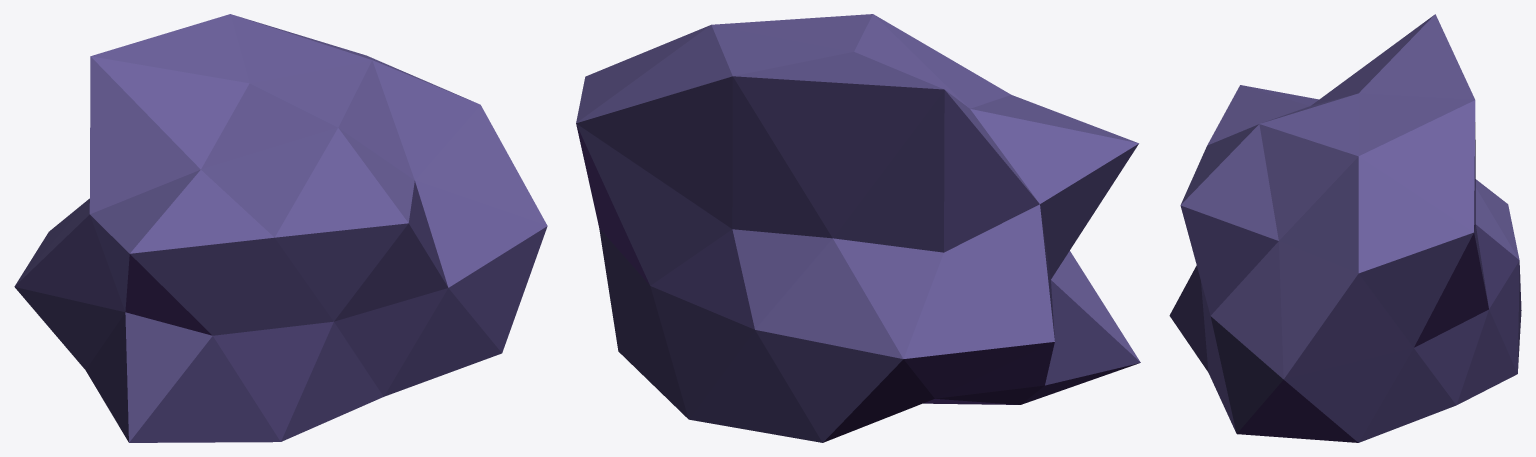
Rendered from Alien_Rock_A.obj.
3 views of the same model, side by side, from view 1: azimuth 30°, elevation 25°; view 2: azimuth 150°, elevation 25°; view 3: azimuth 270°, elevation 25° (orthographic). The views are drawn at different scales.
Visible parts, largest first — view 1: Alien_Rock_A; view 2: Alien_Rock_A; view 3: Alien_Rock_A.
Boxes of the visible parts, x1,y1,x2,y2 form: Alien_Rock_A: [14, 14, 547, 442]; Alien_Rock_A: [576, 14, 1140, 442]; Alien_Rock_A: [1169, 14, 1521, 442].
Bounding box in the file's own units: 3.31 × 2.02 × 2.31.
1 material, 1 textured.
